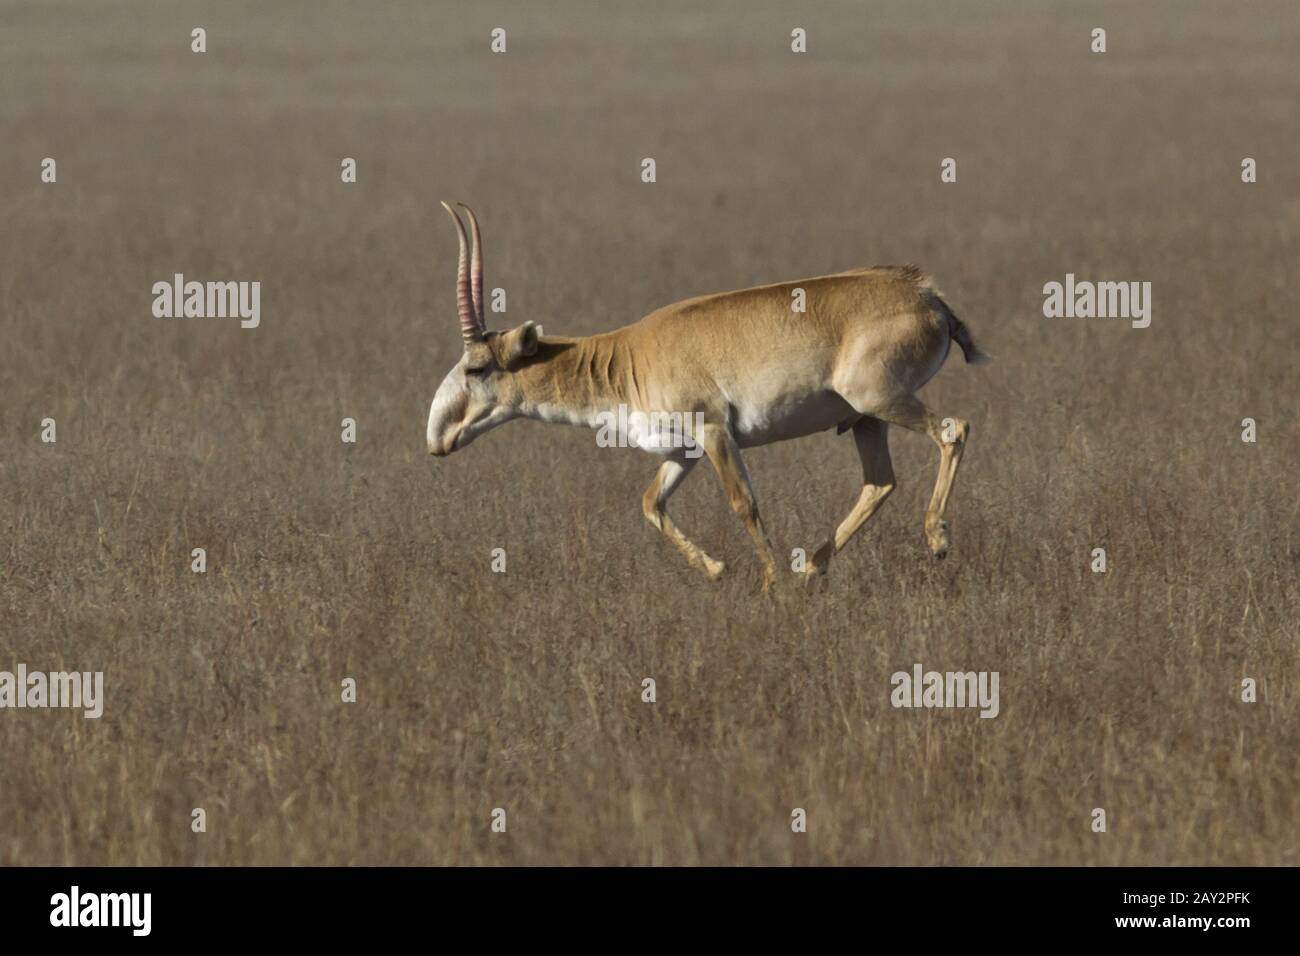saiga: (423, 199, 991, 592)
